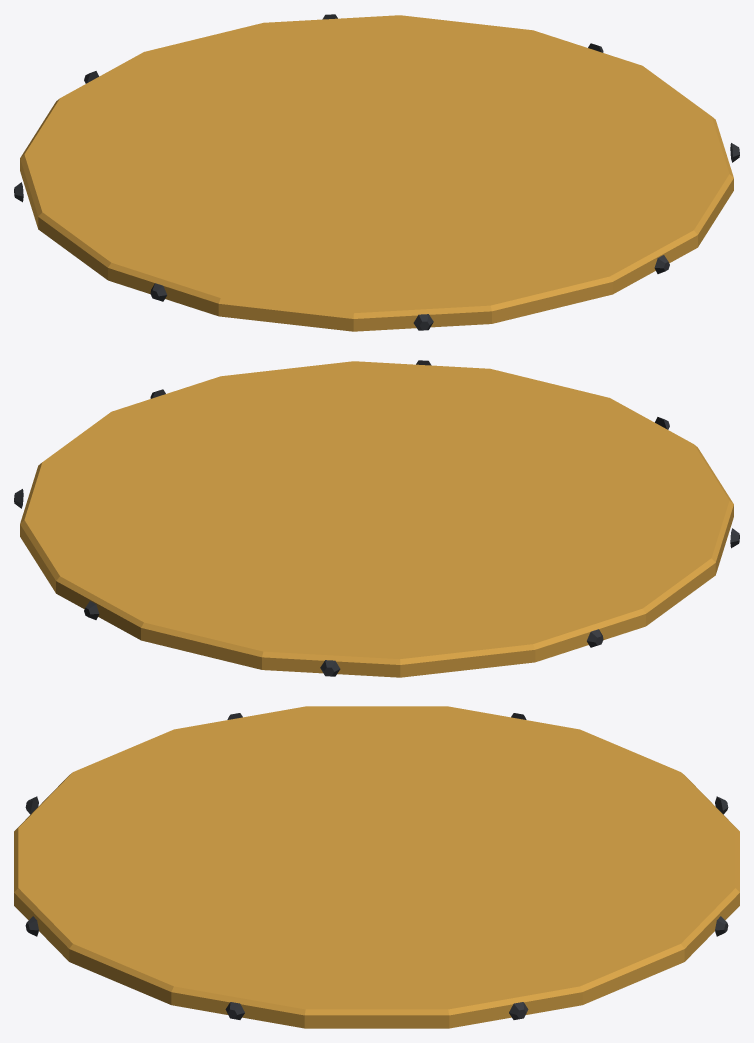
File: BubbleKit3.obj
3 views of the same model, one above another, from view 1: azimuth 30°, elevation 25°; view 2: azimuth 150°, elevation 25°; view 3: azimuth 270°, elevation 25° (orthographic). The views are drawn at different scales.
Parts seen in each view (by area): view 1: BubbleKit3; view 2: BubbleKit3; view 3: BubbleKit3.
Boxes of the visible parts, x1,y1,x2,y2 form: BubbleKit3: (14, 14, 739, 331); BubbleKit3: (14, 360, 739, 677); BubbleKit3: (14, 706, 739, 1028).
Bounding box in the file's own units: 0.9553 × 0.025 × 0.9553.
